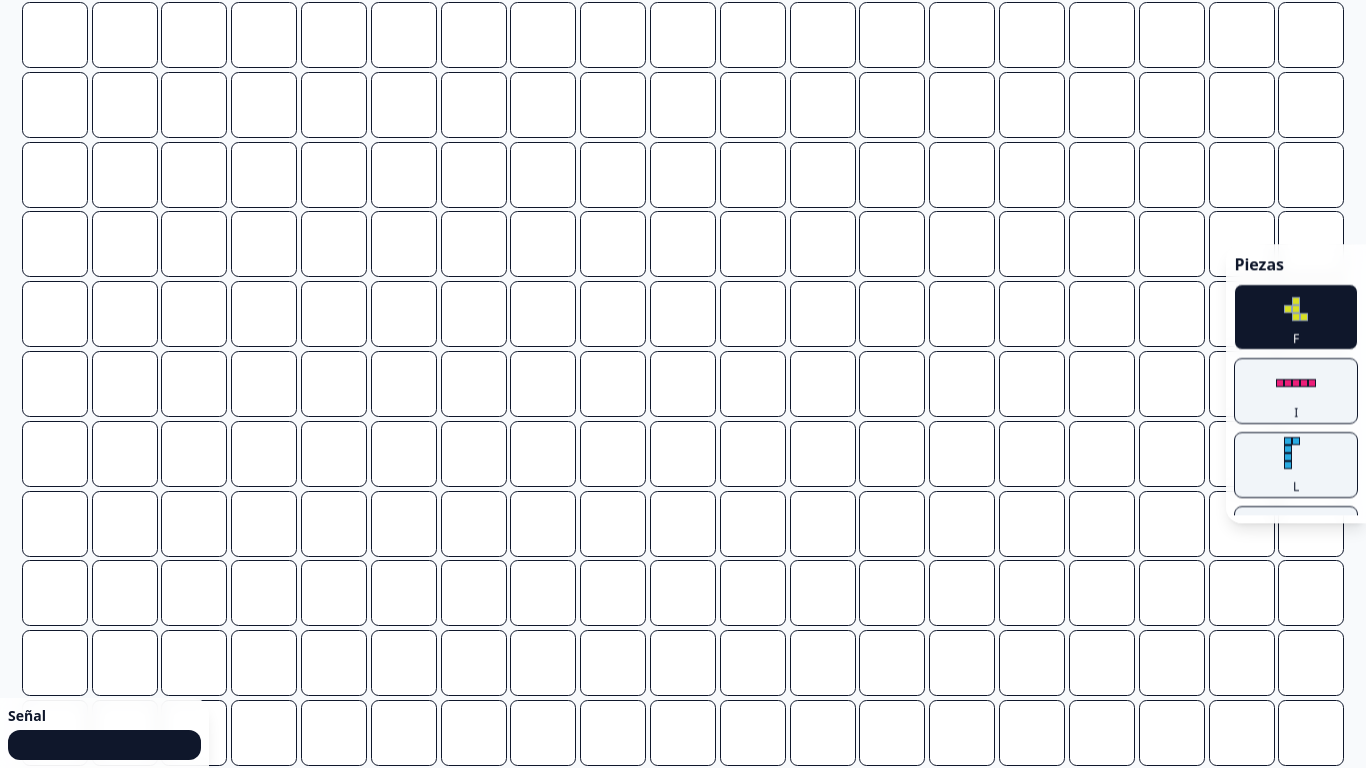
Test: App — el transporte › Reset frena el transporte ADEMAS de vaciar el tablero
Click the cell named "fila 3, columna 4, libre".
click(264, 175)  # box [229,140,299,210]
(page scrolled)
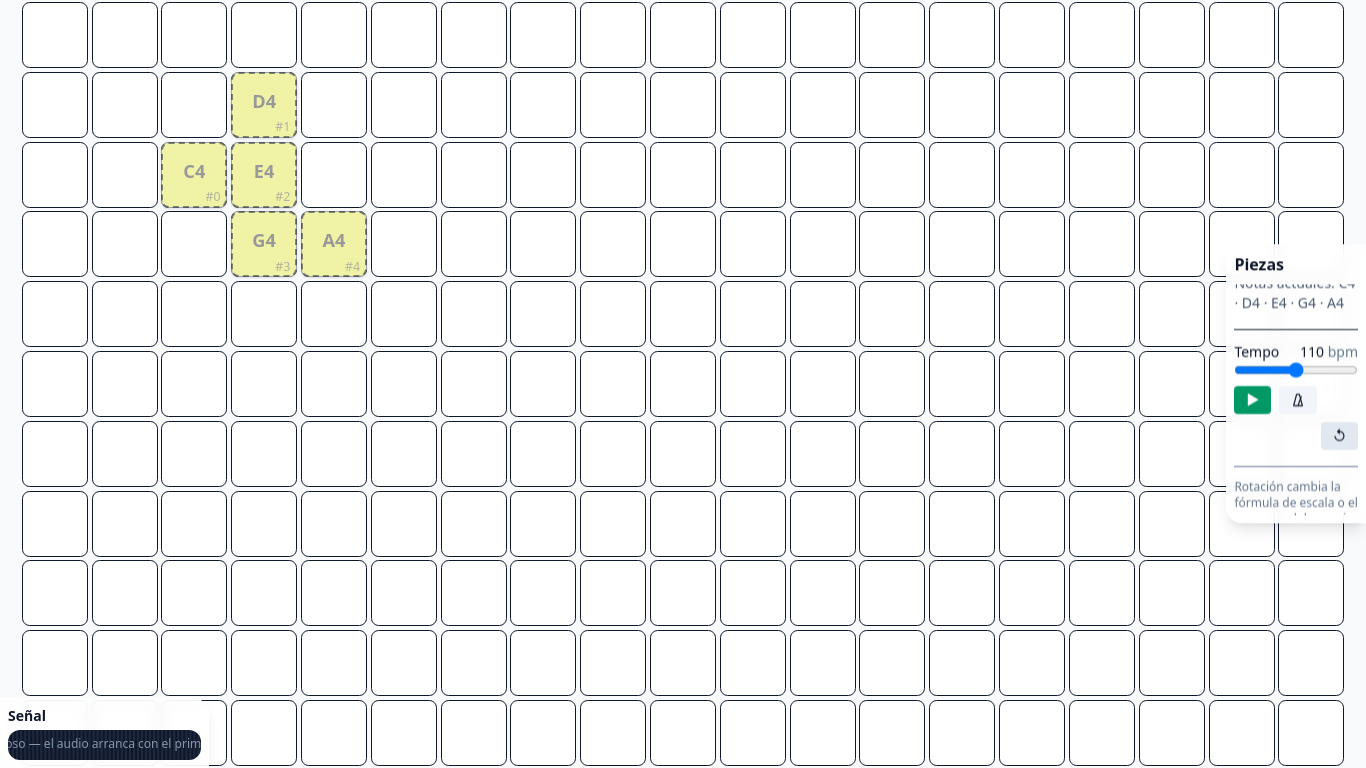
Click the button named "Reproducir".
click(1253, 400)  # box [1234,386,1271,414]
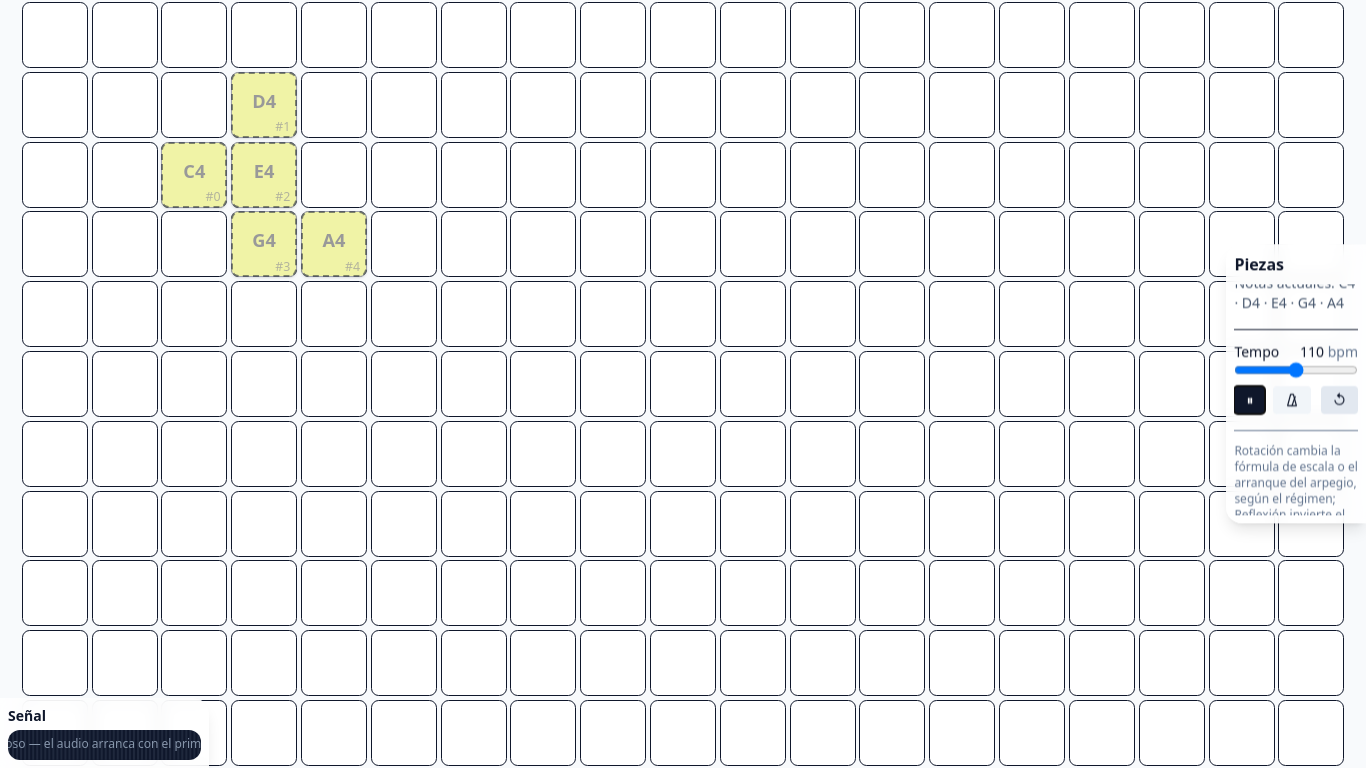
Click the button named "Vaciar el tablero y frenar el transporte".
click(1339, 400)  # box [1321,386,1358,414]
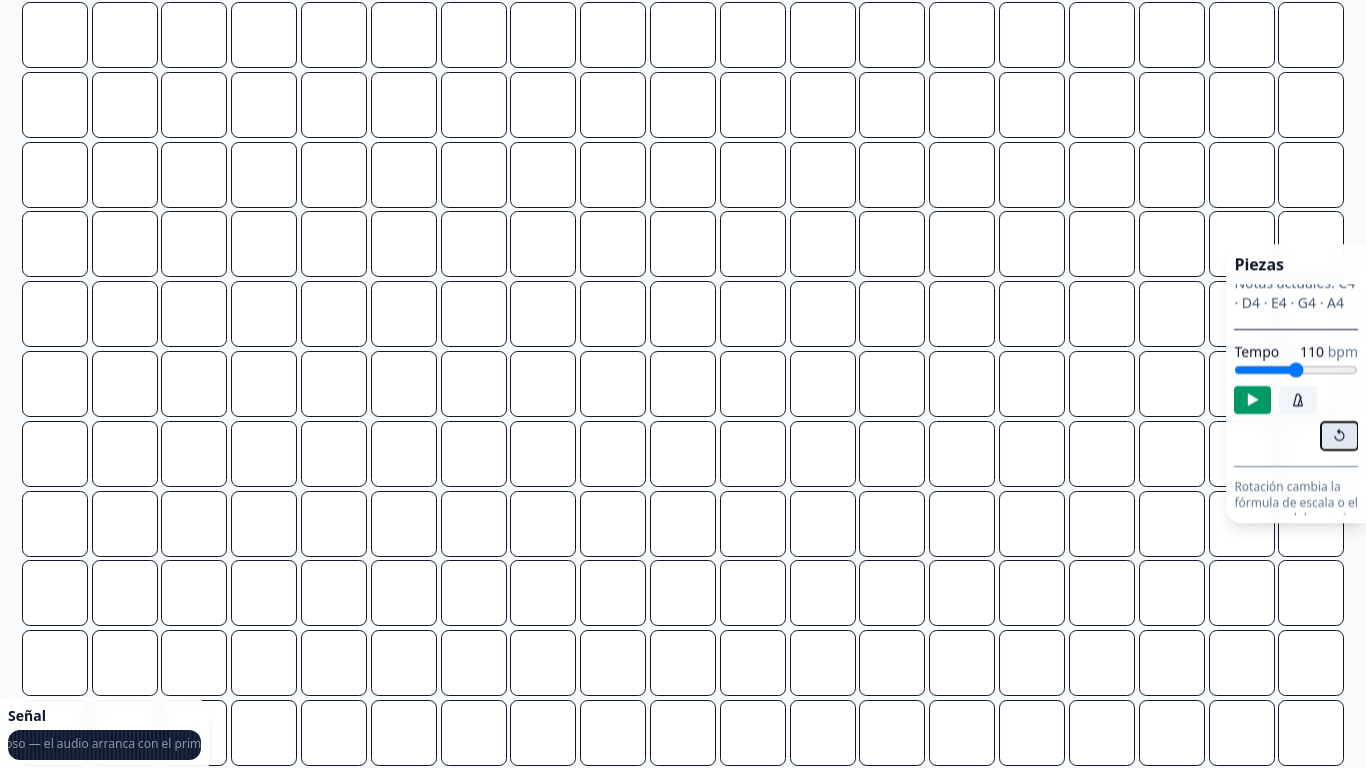
Expected: the button named "Reproducir" is shown, [1234,386,1271,414]
